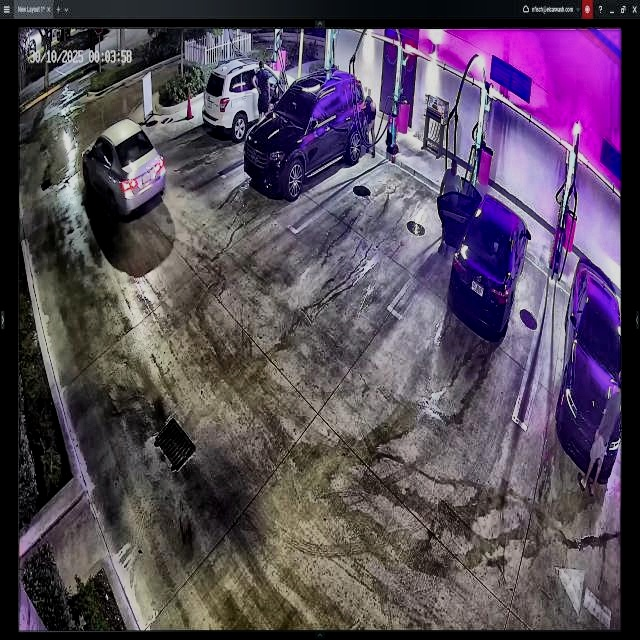Car: (245, 68, 374, 201), (440, 176, 531, 334), (82, 118, 168, 218), (203, 60, 294, 141)
